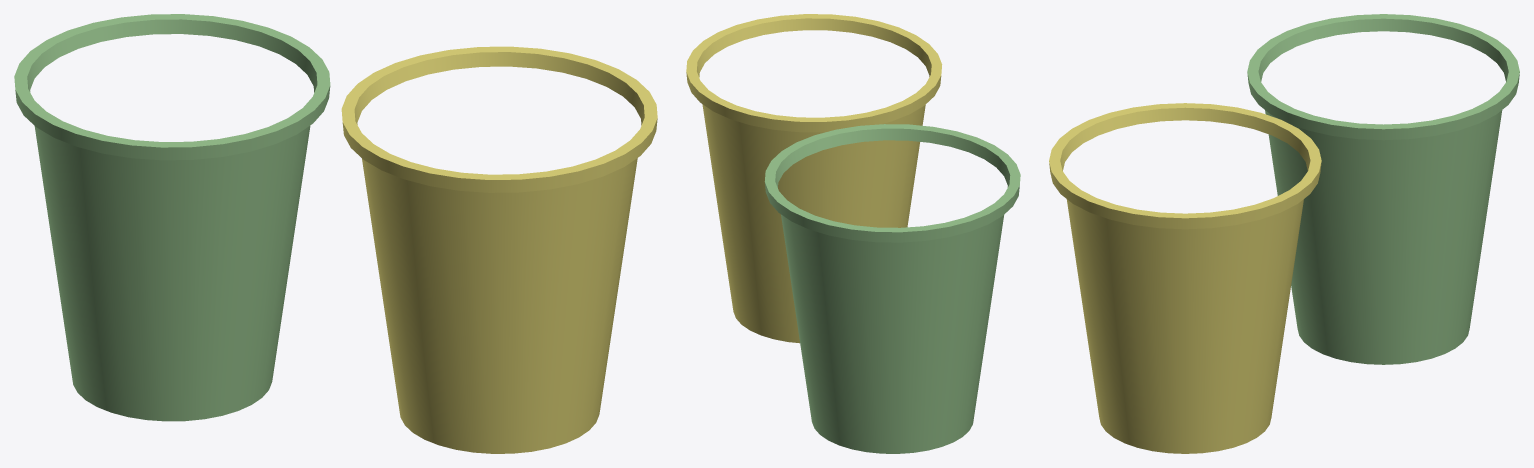
Rendered from sc_jp_bin.glb.
3 views of the same model, side by side, from view 1: azimuth 30°, elevation 25°; view 2: azimuth 150°, elevation 25°; view 3: azimuth 270°, elevation 25° (orthographic). The views are drawn at different scales.
Parts seen in each view (by area): view 1: 75_Bin1, 13_Bin2; view 2: 75_Bin1, 13_Bin2; view 3: 13_Bin2, 75_Bin1.
Part boxes in pixels (x1,y1,x2,y2): 75_Bin1: [14, 14, 330, 421]; 13_Bin2: [341, 46, 657, 453]; 75_Bin1: [764, 124, 1020, 453]; 13_Bin2: [686, 14, 942, 343]; 13_Bin2: [1049, 103, 1321, 453]; 75_Bin1: [1247, 14, 1519, 364].
Bounding box in the file's own units: 0.6287 × 0.3686 × 0.6124.
